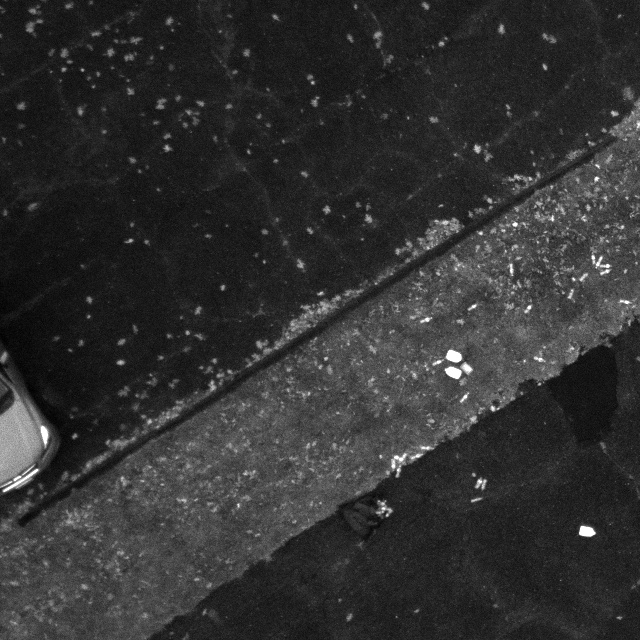bottle: (531, 352, 548, 367), (588, 246, 599, 269), (506, 258, 517, 280), (577, 267, 591, 284), (418, 312, 434, 326), (522, 300, 535, 317), (407, 450, 425, 462), (431, 355, 446, 369), (565, 284, 576, 303), (397, 446, 408, 464), (459, 389, 471, 405), (479, 475, 489, 494), (420, 442, 437, 453), (469, 494, 484, 506), (474, 475, 484, 492), (466, 300, 479, 313), (390, 454, 399, 472), (395, 462, 404, 479)
can: (576, 521, 599, 541), (445, 346, 465, 366), (444, 363, 464, 382)
container: (459, 359, 474, 379)
